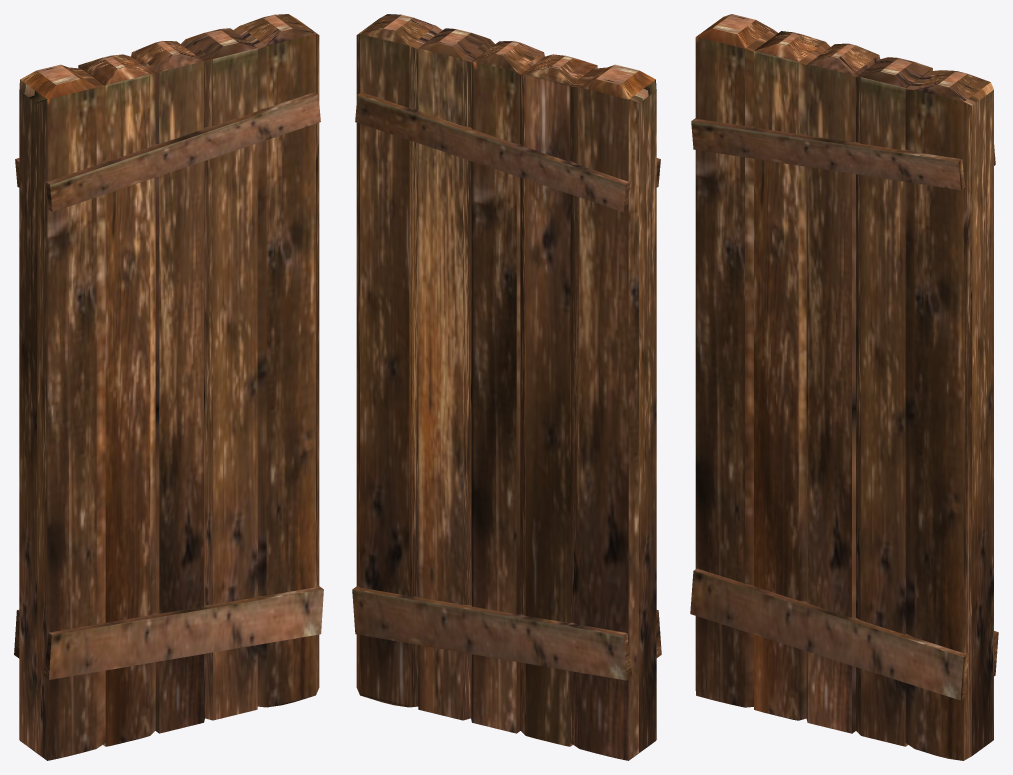
Rendered from door01.gltf.
The picture shows the model from 3 angles, left to right: view 1: azimuth 30°, elevation 25°; view 2: azimuth 150°, elevation 25°; view 3: azimuth 330°, elevation 25°; orthographic projection.
Parts seen in each view (by area): view 1: Cube.001; view 2: Cube.001; view 3: Cube.001.
Part boxes in pixels (x1,y1,x2,y2): Cube.001: (14, 14, 323, 760); Cube.001: (352, 14, 661, 760); Cube.001: (690, 14, 998, 760).
Size of the model in its own units: 1.77 by 4.08 by 0.3899.
1 material, 1 textured.
